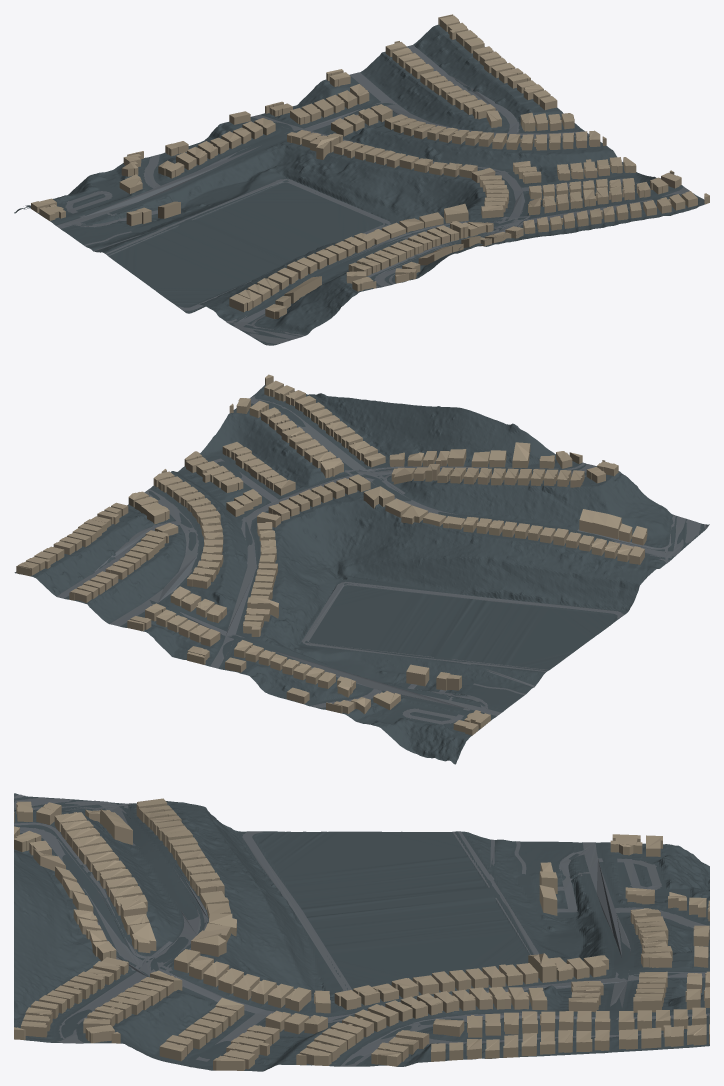
The model's file is epsg26910-1427-10881.lod0.glb.
The picture shows the model from 3 angles, top to bottom: view 1: azimuth 30°, elevation 25°; view 2: azimuth 150°, elevation 25°; view 3: azimuth 270°, elevation 25°; orthographic projection. The views are drawn at different scales.
Visible parts, largest first — view 1: epsg26910-1427-10881-lod0; view 2: epsg26910-1427-10881-lod0; view 3: epsg26910-1427-10881-lod0.
Boxes of the visible parts, x1=… form: epsg26910-1427-10881-lod0: x1=14, y1=14, x2=709, y2=345; epsg26910-1427-10881-lod0: x1=14, y1=374, x2=709, y2=764; epsg26910-1427-10881-lod0: x1=14, y1=793, x2=709, y2=1071.
Bounding box in the file's own units: 384 × 91.35 × 384.
